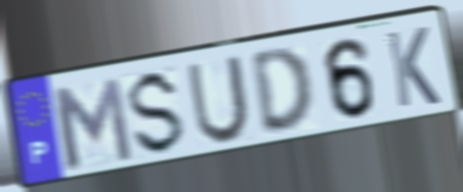6: (320, 35, 378, 122)
D: (248, 44, 317, 136)
K: (382, 24, 444, 111)
M: (47, 74, 137, 173)
S: (127, 66, 189, 159)
U: (184, 52, 252, 147)
